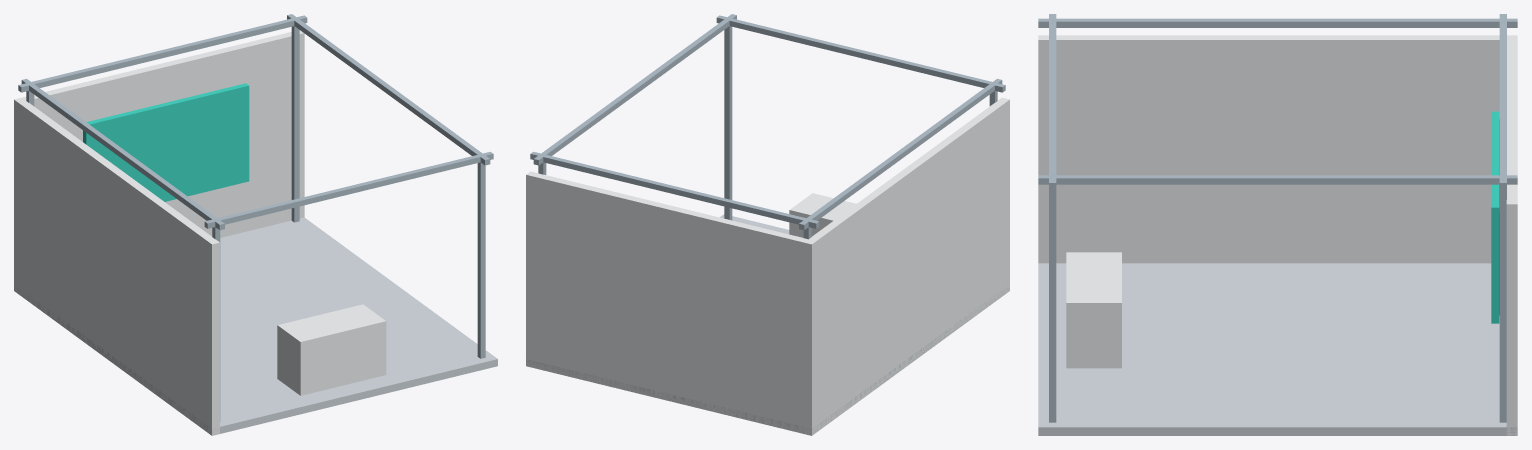
3 renders of one model, left to right at view 1: azimuth 30°, elevation 25°; view 2: azimuth 150°, elevation 25°; view 3: azimuth 270°, elevation 25°, orthographic. The views are drawn at different scales.
Visible parts, largest first — view 1: Exhibition Booth Concept; view 2: Exhibition Booth Concept; view 3: Exhibition Booth Concept.
Boxes of the visible parts, <box> form: Exhibition Booth Concept: <box>14,14,497,435</box>; Exhibition Booth Concept: <box>526,14,1009,435</box>; Exhibition Booth Concept: <box>1038,14,1517,435</box>.
Bounding box in the file's own units: 5 × 3.49 × 6.
